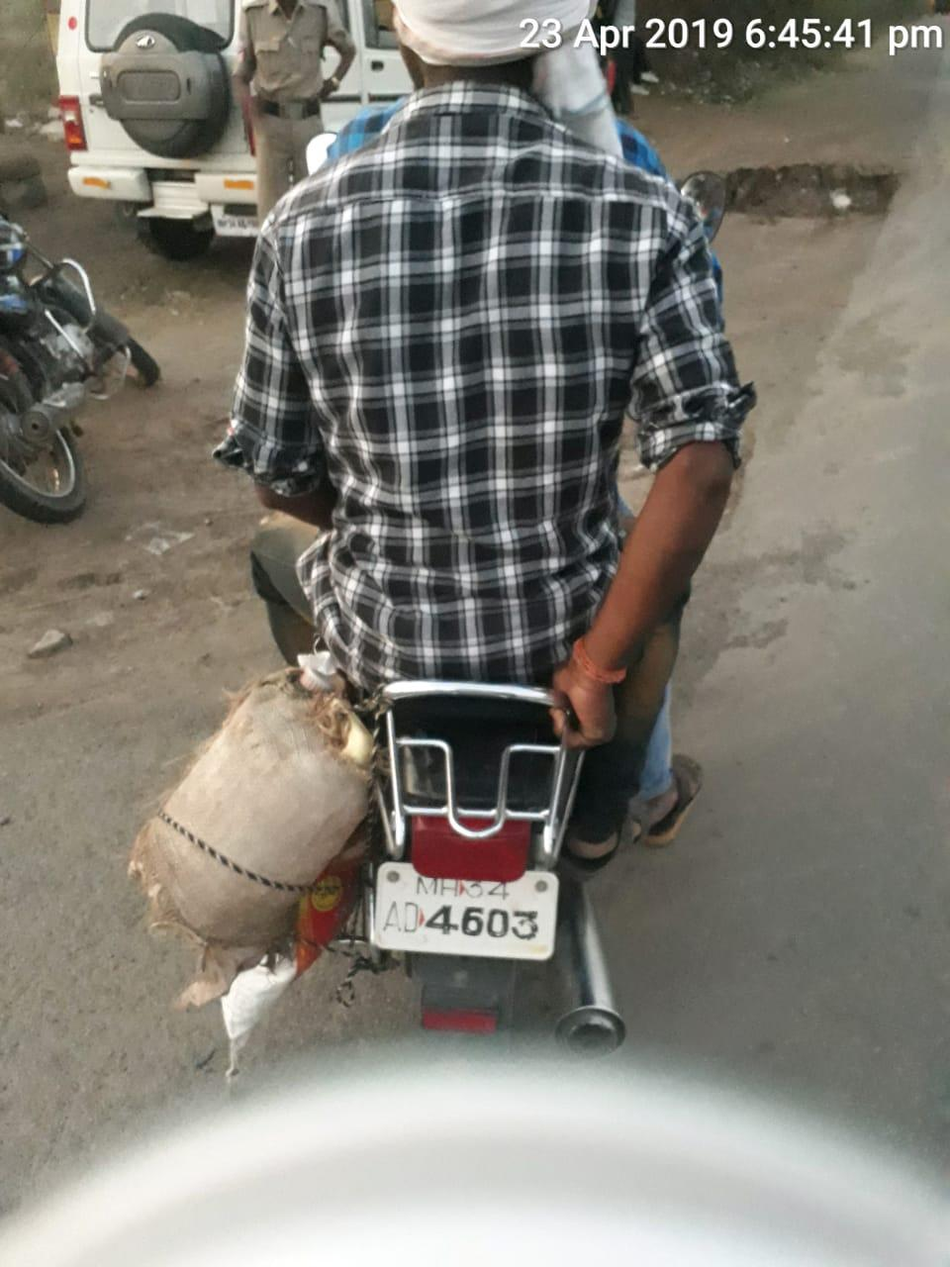plate: (336, 852, 589, 989)
